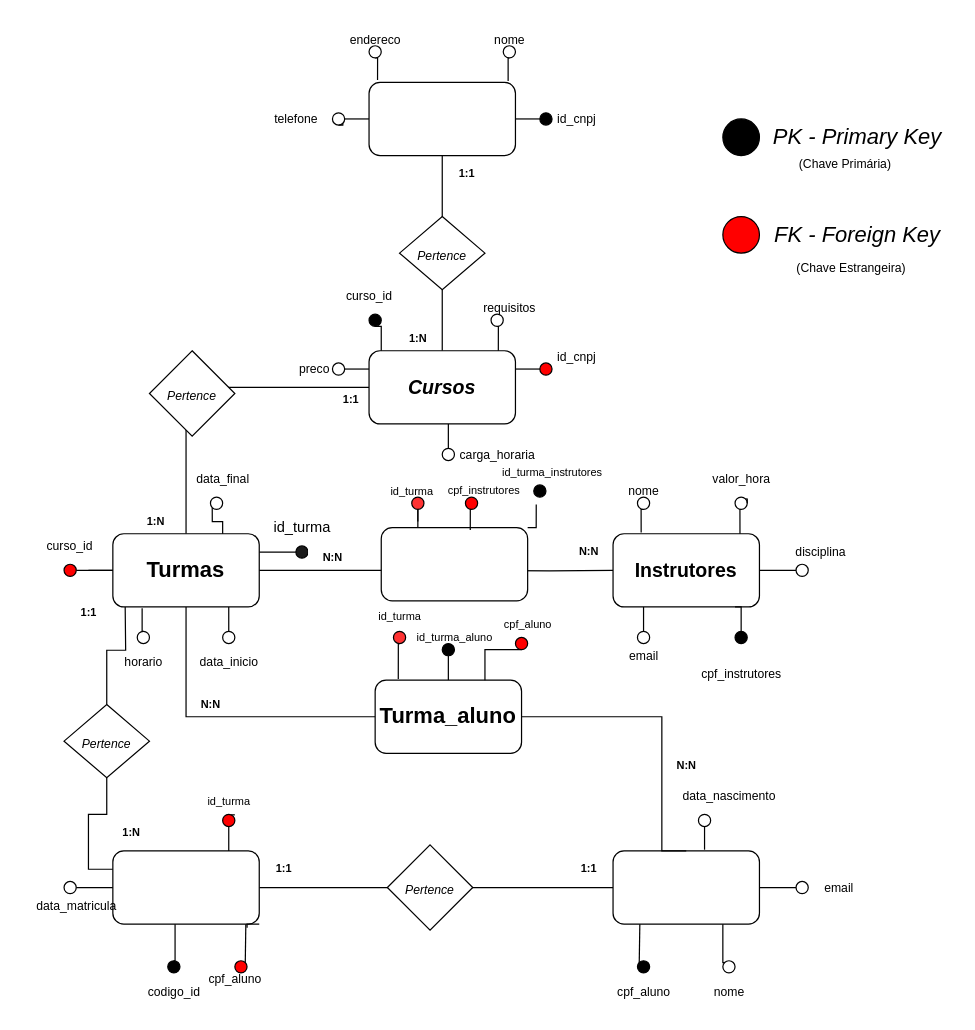
Image size: 975x1030. Some labels were removed from this diagram. The centre of each missing label's shape, as x and y in pixels:
Aluno: point (685, 887)
instituicao: point (441, 118)
Matriculas: point (185, 887)
Turma_instrutores: point (454, 563)
